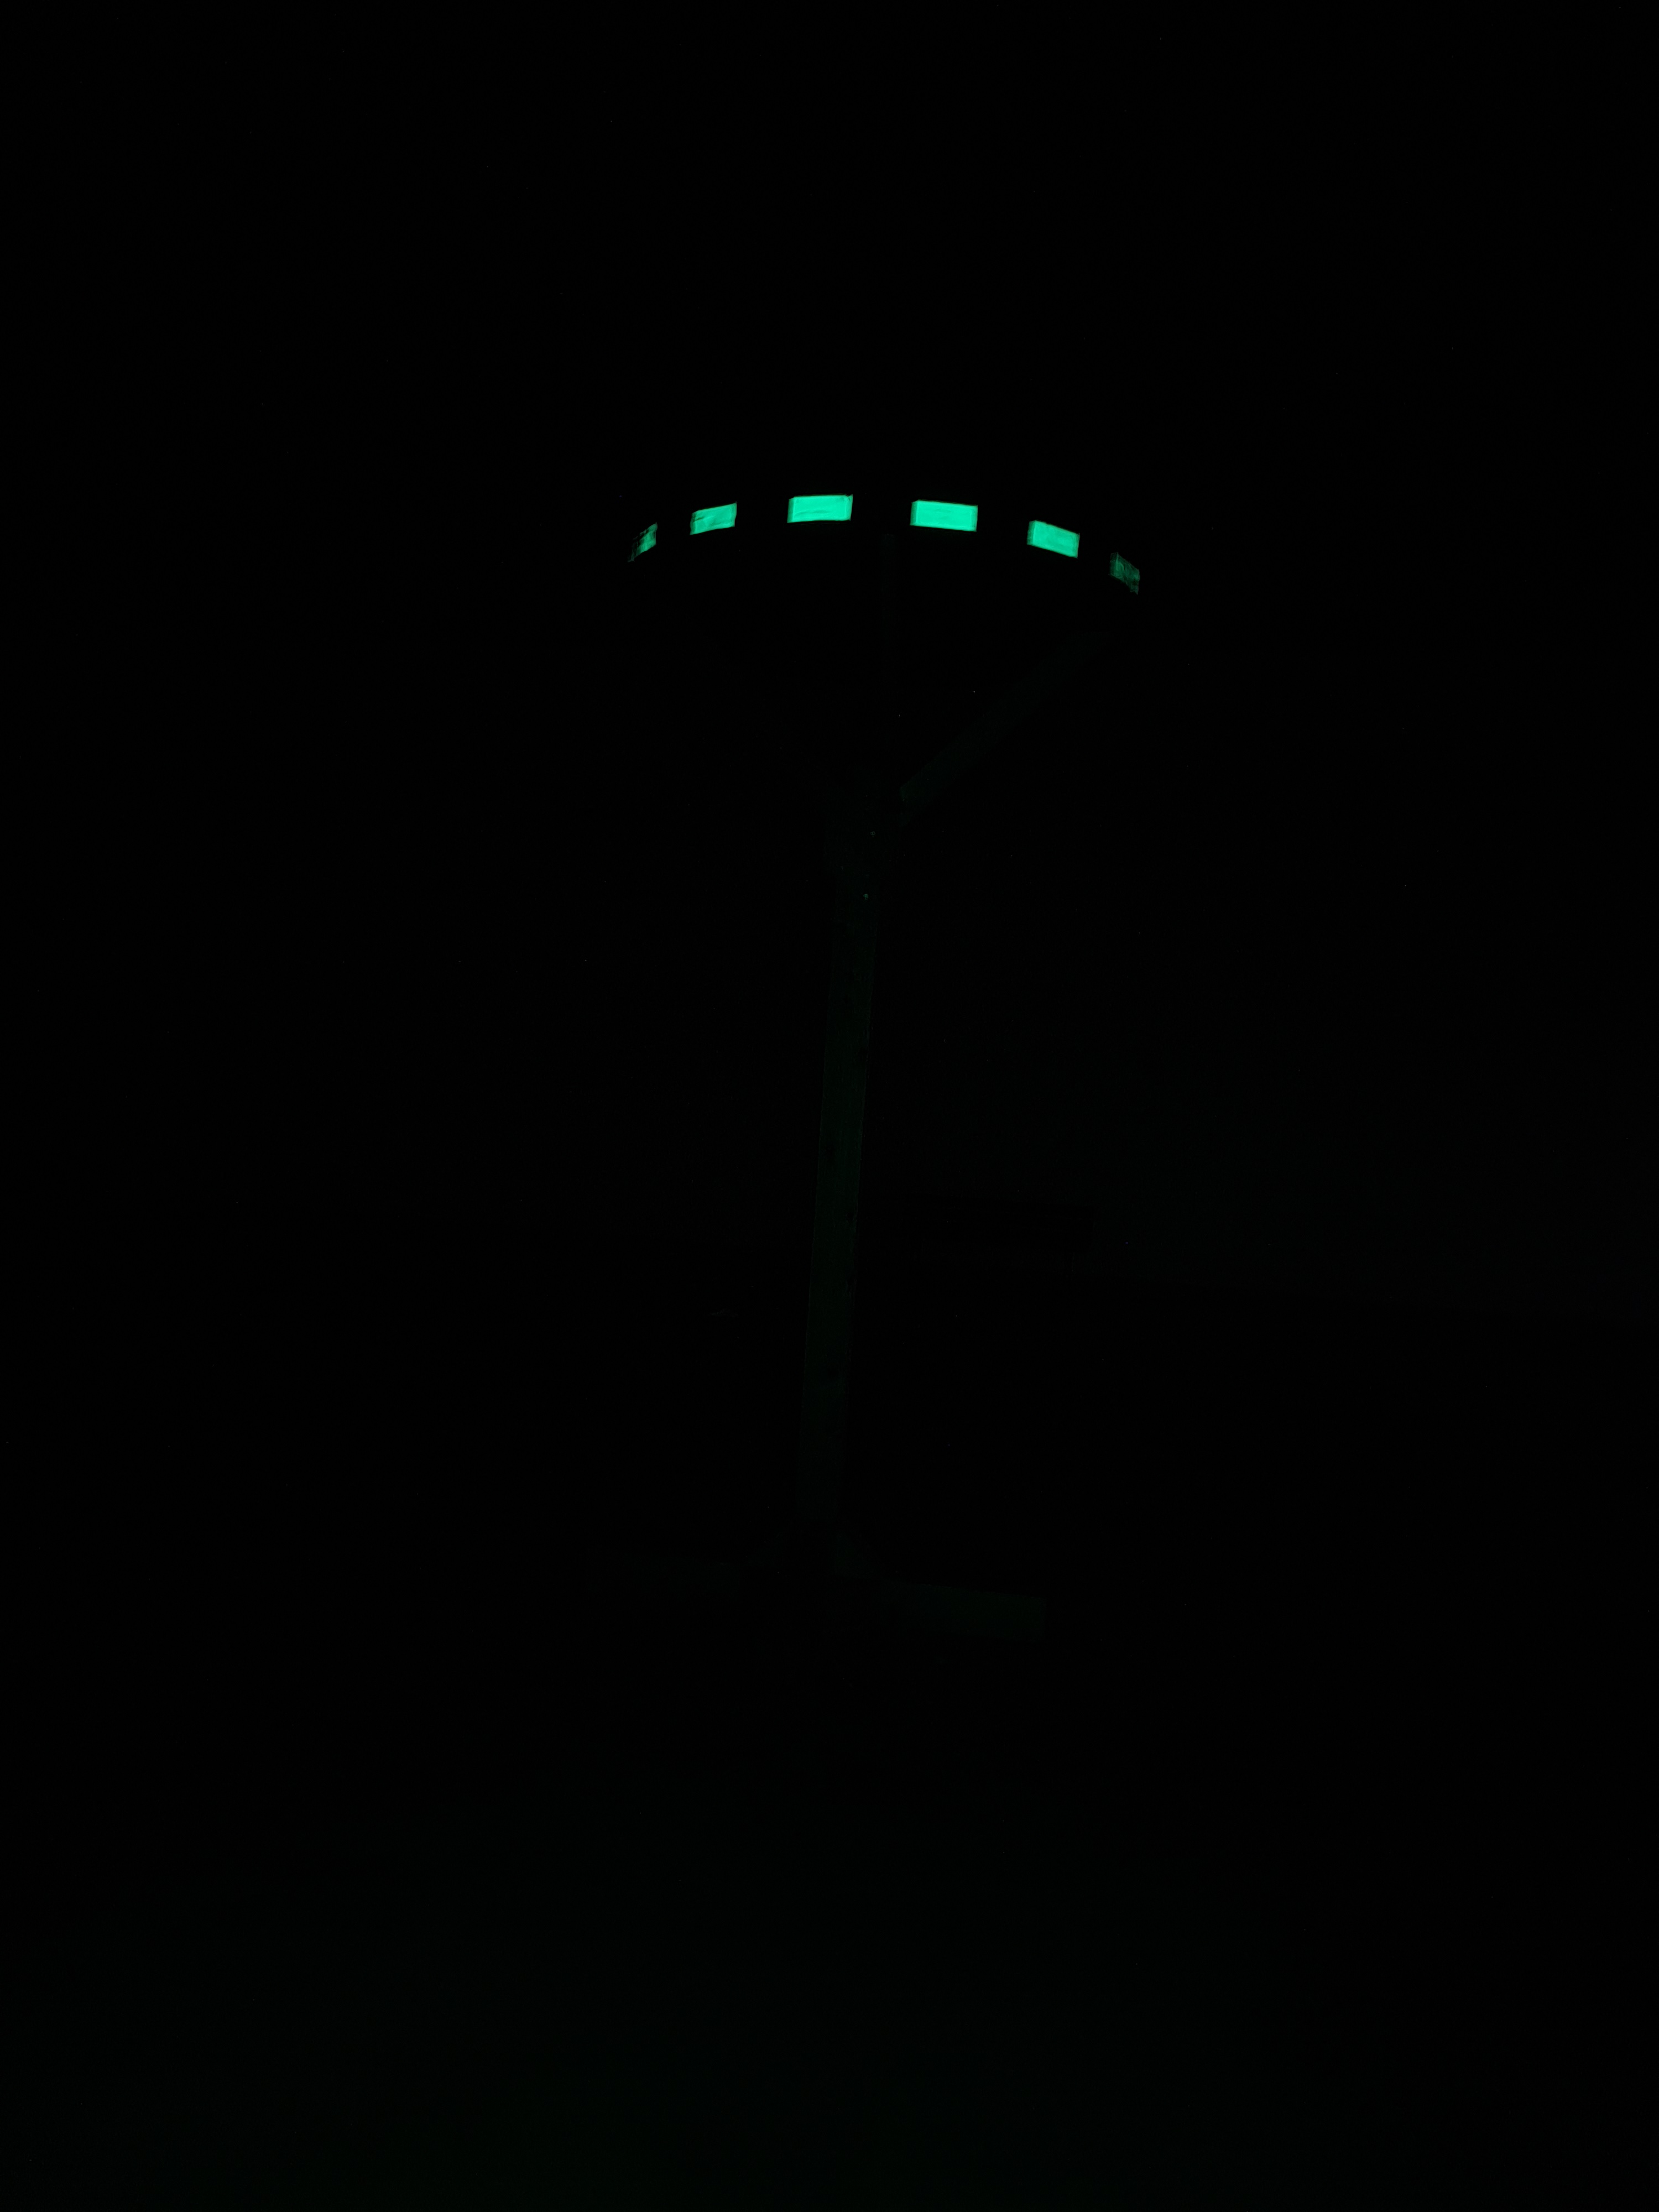hoop: (624, 481, 1143, 610)
